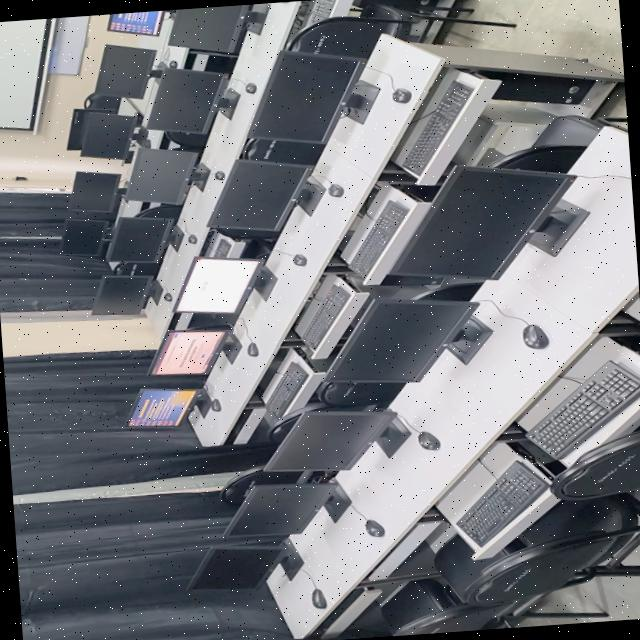Chair: (465, 493, 640, 602), (390, 596, 607, 636), (488, 116, 606, 173), (549, 430, 640, 500), (286, 17, 409, 59), (219, 467, 301, 505), (238, 139, 322, 165), (318, 382, 403, 406), (420, 283, 480, 301), (266, 415, 297, 444), (83, 92, 120, 111)
Cpu: (470, 69, 594, 104), (358, 0, 438, 10)
Keyboard: (525, 361, 640, 460), (456, 461, 548, 546), (401, 80, 472, 175), (348, 200, 408, 278), (300, 284, 350, 351), (265, 362, 307, 420), (306, 0, 335, 24), (208, 238, 230, 258)
Monitor: (388, 166, 586, 281), (324, 298, 491, 385), (249, 50, 363, 144), (206, 159, 324, 238), (263, 410, 409, 470), (225, 480, 349, 535), (143, 67, 226, 134), (168, 3, 266, 56), (125, 147, 209, 204), (174, 257, 259, 313), (149, 326, 237, 375), (186, 545, 278, 590), (94, 45, 155, 98), (107, 216, 172, 263), (126, 388, 199, 427), (79, 110, 135, 160), (91, 275, 152, 315), (68, 171, 120, 213), (59, 219, 110, 257), (106, 10, 162, 36), (65, 108, 85, 150)
Mouse: (522, 324, 547, 349), (416, 431, 438, 450), (363, 520, 384, 537), (390, 88, 410, 103), (310, 589, 325, 608), (325, 184, 342, 197), (291, 254, 306, 266), (209, 398, 220, 411), (246, 343, 257, 356), (244, 83, 255, 93), (186, 234, 196, 244), (212, 171, 223, 180), (162, 292, 171, 302), (167, 60, 176, 68)
